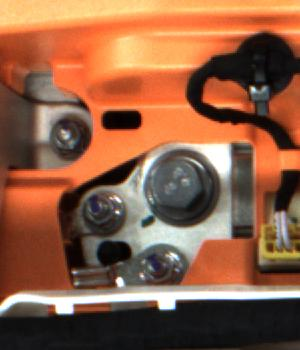nut_b: (142, 145, 218, 226)
screw_s: (48, 121, 89, 160), (139, 250, 177, 284), (84, 197, 122, 229)
